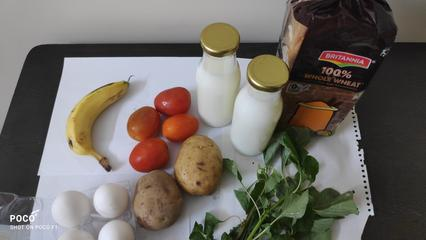banana: (67, 77, 110, 165)
bread: (282, 4, 373, 140)
eggs: (53, 184, 138, 240)
milk: (233, 56, 283, 158), (196, 22, 238, 121)
potato: (129, 170, 187, 227), (178, 135, 222, 195)
spinach: (257, 152, 314, 240)
tomato: (134, 131, 170, 171), (127, 103, 162, 138), (154, 81, 188, 111), (164, 114, 198, 140)
